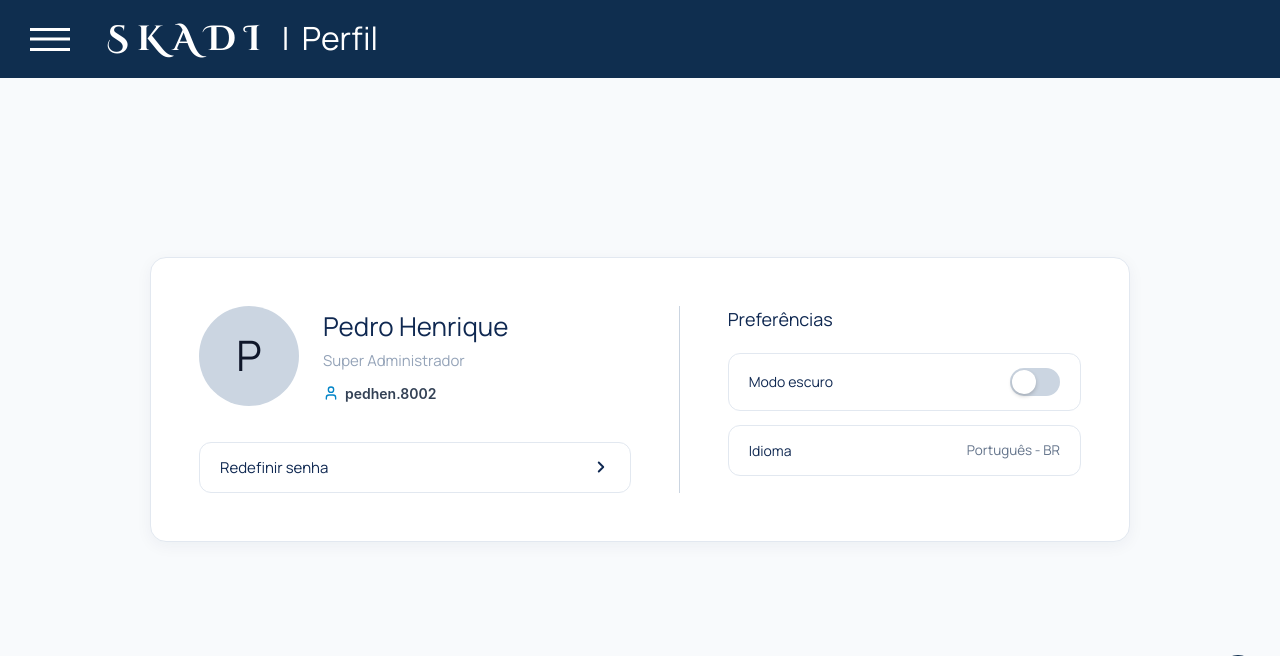
Test: ProfileScreen › alterna para a tela de redefinição de senha ao clicar no botão
What coordinates should you click on to do the following:
click the button with aria-label "Redefinir senha de acesso"
I would click on:
 (274, 467)
Its box is [199,442,631,492].
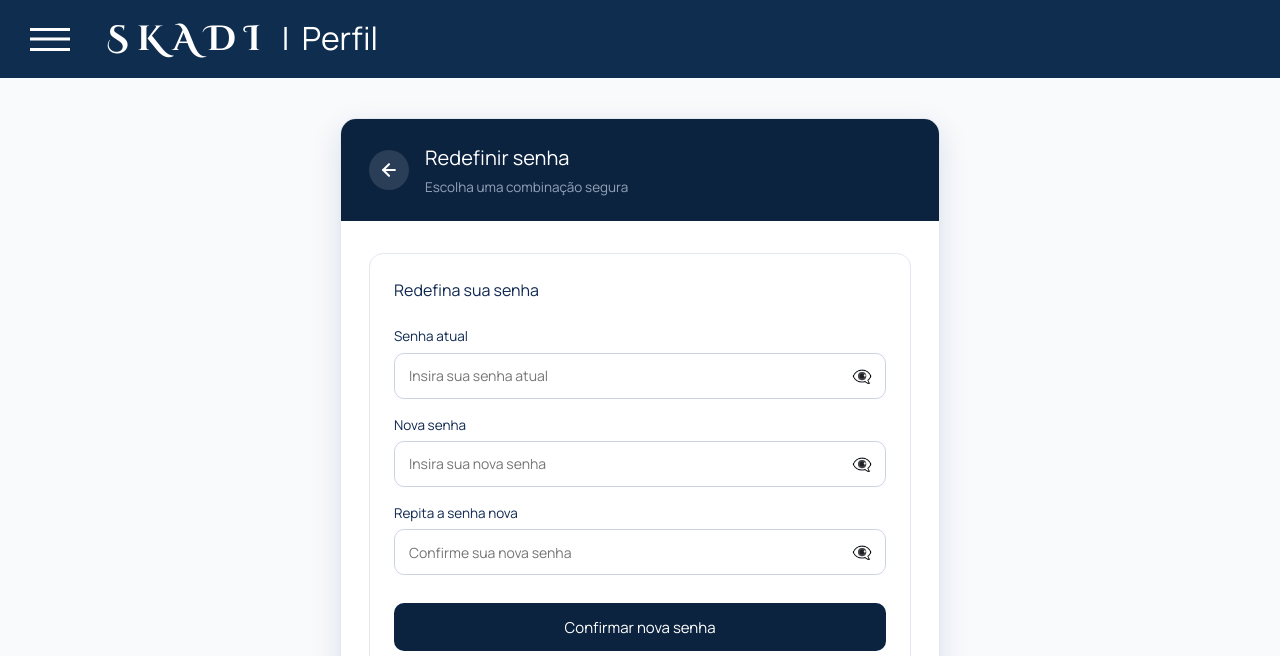
Check: the heading "Redefinir senha" is shown, box [425,144,569,171]
Check: the text "Escolha uma combinação segura" is shown, box [425,177,628,197]
